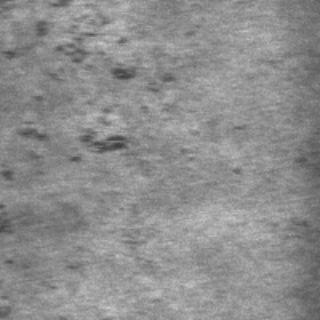rolled pit: (4, 3, 128, 102), (2, 114, 128, 178)
